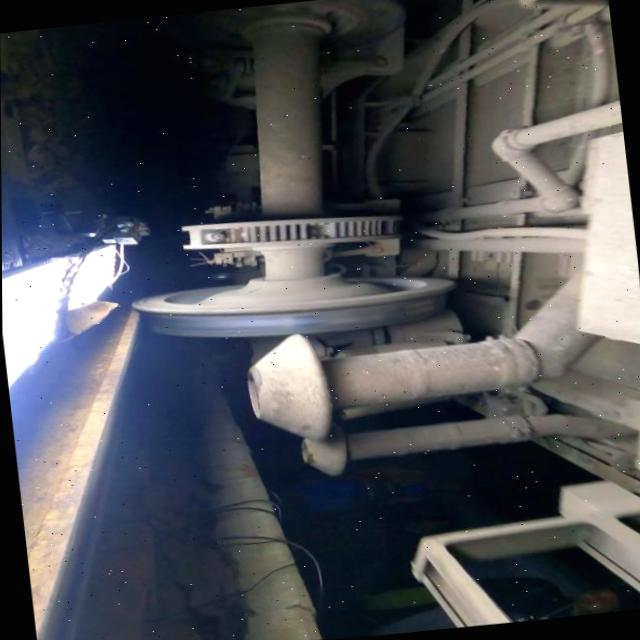Discoloration: (293, 312, 326, 327)
Shelling: (328, 310, 385, 324), (407, 298, 436, 315)
Wheel: (132, 275, 455, 337)
